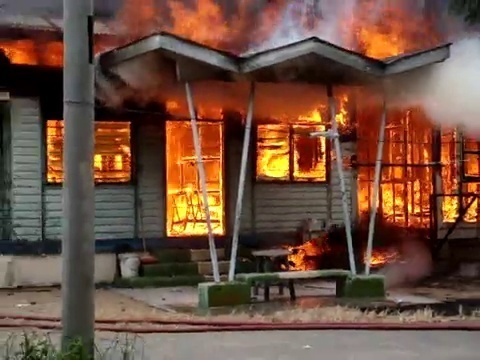fire: (92, 119, 134, 181), (0, 32, 60, 66), (279, 238, 324, 271), (44, 117, 64, 182)
